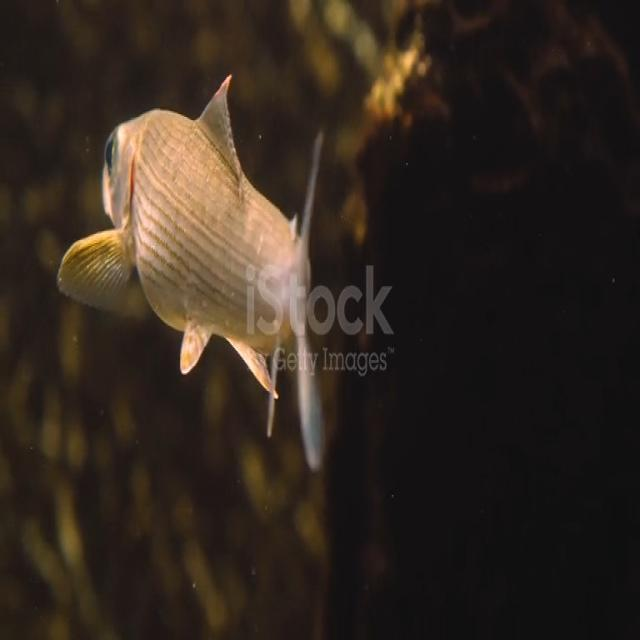fish: (56, 71, 338, 485)
